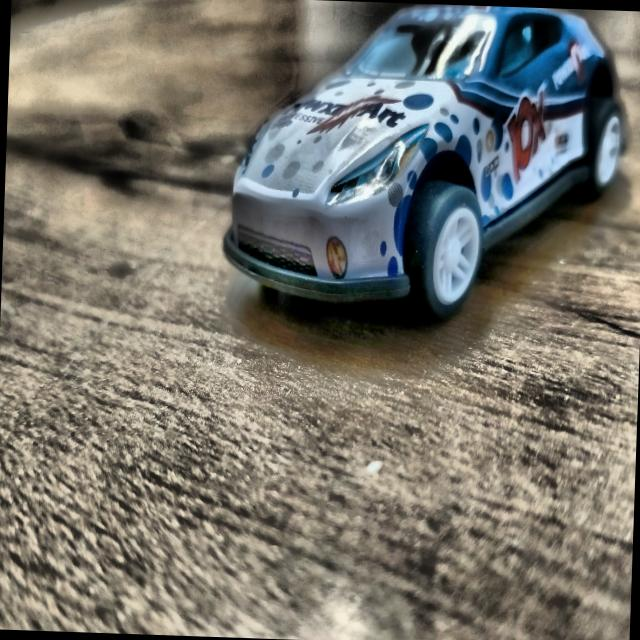Car: (221, 1, 633, 313)
